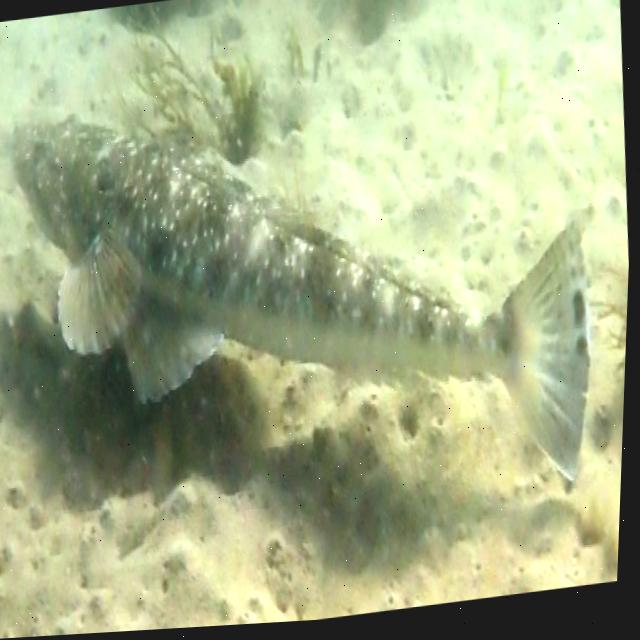Flathead: (0, 10, 615, 581)
